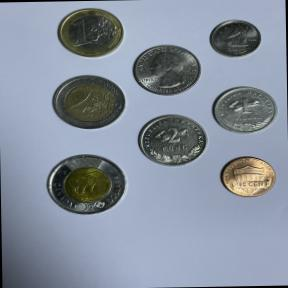1 Euro: (53, 5, 127, 61)
2 Euro: (49, 72, 128, 134)
Canda-10cent-: (206, 17, 265, 61)
Canda-2Dollar-: (41, 150, 131, 218)
Croatia-2Kune-: (135, 110, 210, 170)
US-1cent-: (216, 152, 280, 200)
US-25cent-: (129, 41, 205, 103)
